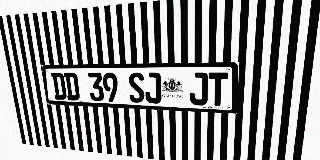3: (88, 73, 104, 101)
9: (102, 72, 119, 102)
D: (51, 73, 67, 100), (64, 73, 80, 100)
J: (189, 72, 208, 106), (144, 72, 162, 104)
S: (128, 72, 145, 103)
T: (208, 72, 228, 106)
